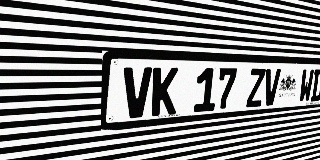1: (194, 68, 218, 112)
7: (215, 68, 237, 110)
D: (310, 69, 320, 102)
K: (151, 67, 178, 116)
V: (122, 67, 152, 119), (262, 69, 281, 106)
W: (298, 69, 314, 103)
Z: (246, 68, 266, 108)
